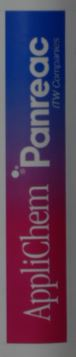ApplichemPanreac: (12, 34, 63, 322)
